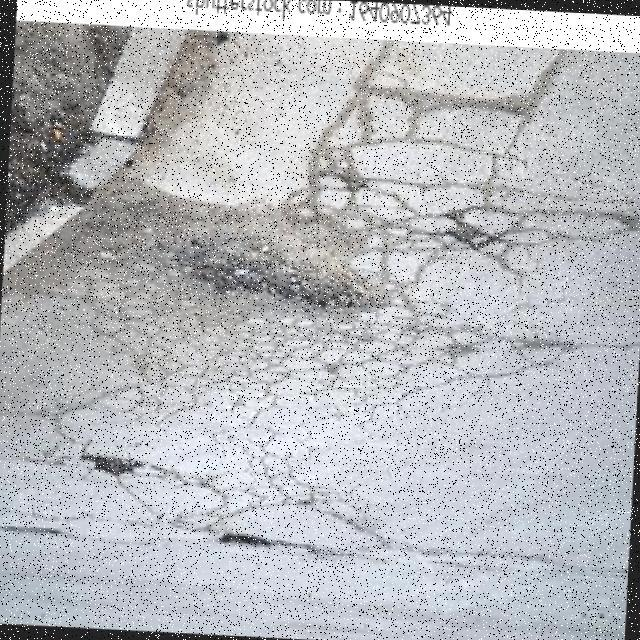Pothole: (181, 222, 369, 310), (82, 456, 179, 485), (219, 533, 279, 546)
